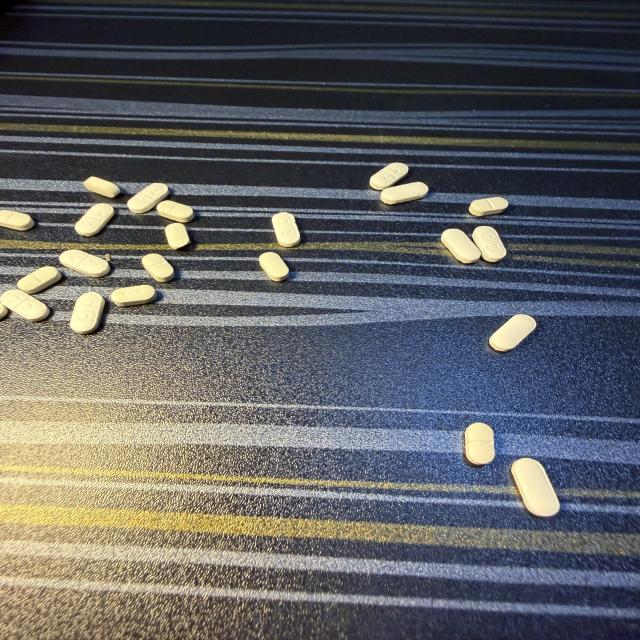pill: (512, 458, 559, 516), (489, 315, 536, 351), (0, 290, 49, 321), (70, 292, 104, 334), (59, 250, 110, 277), (441, 229, 480, 263), (75, 204, 114, 236), (17, 266, 61, 294), (465, 423, 494, 465), (128, 184, 168, 213), (473, 227, 506, 262), (381, 182, 428, 204), (370, 163, 408, 189), (272, 212, 300, 247), (111, 285, 156, 306), (142, 254, 174, 281), (157, 200, 194, 223), (260, 252, 289, 281), (469, 197, 508, 216), (84, 177, 120, 197), (0, 210, 34, 230), (165, 223, 190, 249), (0, 304, 8, 319), (104, 253, 111, 262)
